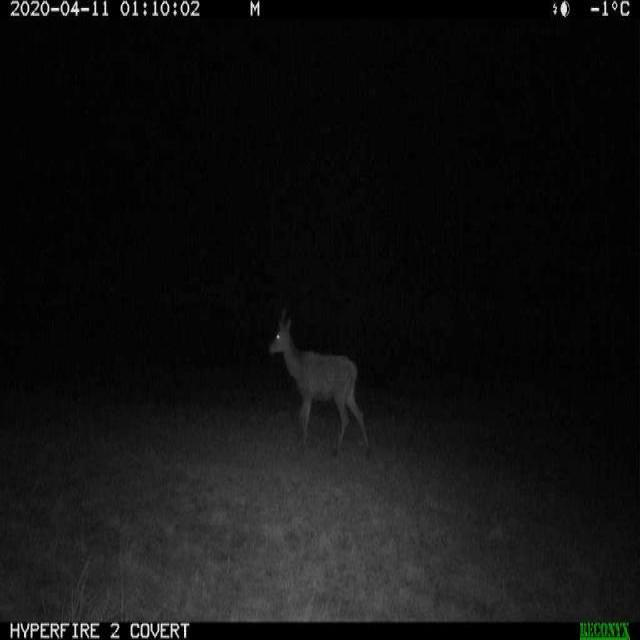deer: (252, 299, 378, 476)
